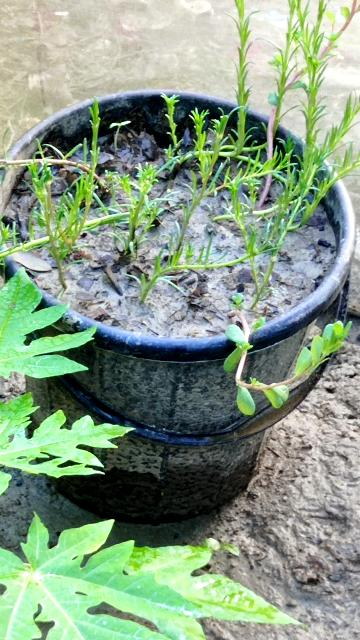hardplastic: (0, 298, 360, 534)
